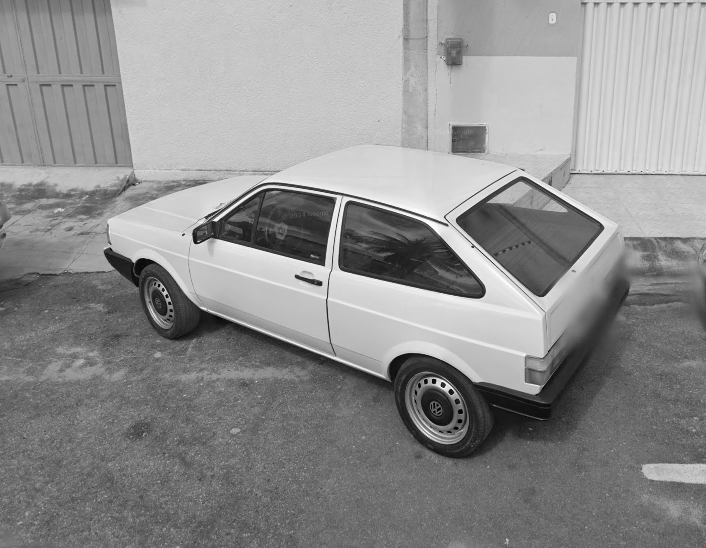car: (104, 139, 633, 462)
